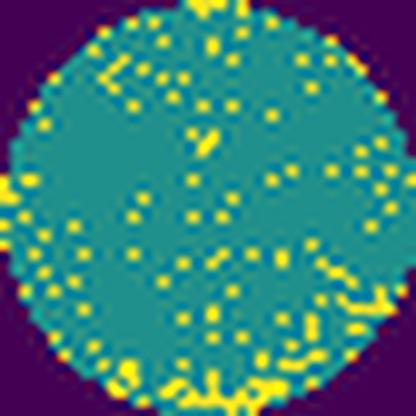Edge-Loc: (155, 369, 301, 416), (180, 0, 229, 20)
